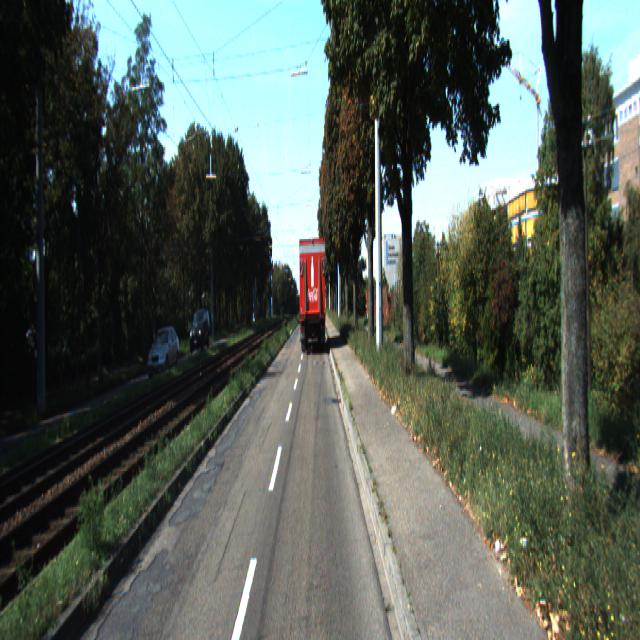Car: (298, 236, 328, 356), (146, 325, 181, 383), (189, 308, 211, 354)
